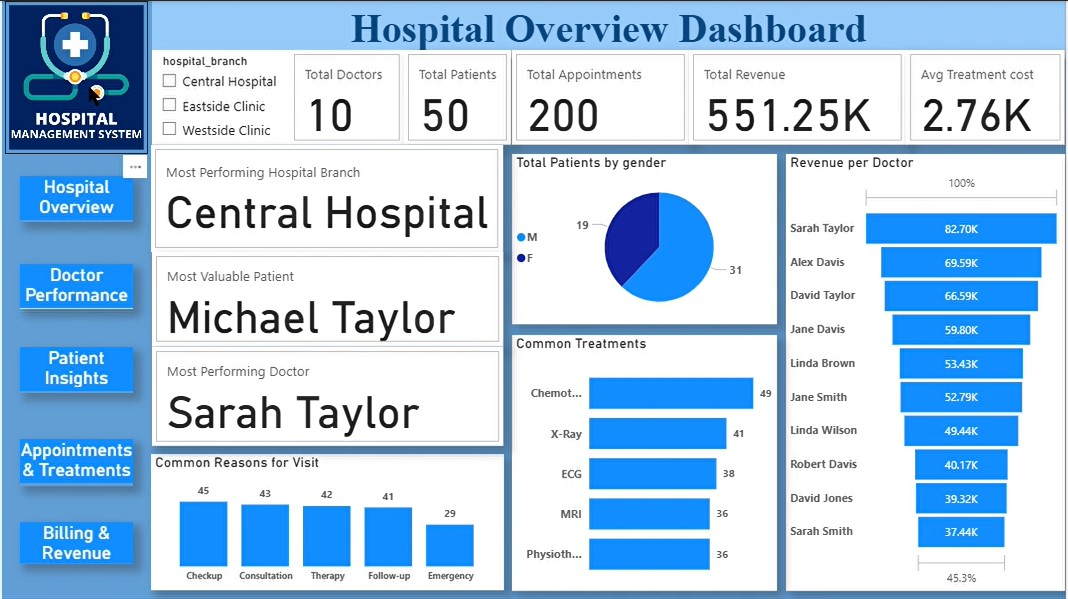

Layout of this report page (visuals, bound fields, positions):
{"tool":"powerbi","page":{"name":"Hospital Overview","canvas":[1280,720],"ordinal":1},"visuals":[{"type":"textbox","box":[180.3,0,1099.7,70.2],"z":0},{"type":"cardVisual","fields":{"Data":["doctors.Total Doctors"]},"box":[346.8,59.2,137.6,114.2],"z":1000},{"type":"cardVisual","fields":{"Data":["patients.Total Patients"]},"box":[484.5,59.2,129.4,114.2],"z":2000},{"type":"cardVisual","fields":{"Data":["appointments.Total Appointments"]},"box":[613.8,59.2,213.3,114.2],"z":3000},{"type":"cardVisual","fields":{"Data":["Sum(treatments.cost)"]},"box":[827.2,59.2,261.5,114.2],"z":4000},{"type":"cardVisual","fields":{"Data":["treatments.Avg Treatment cost"]},"box":[1088.7,59.2,191.3,114.2],"z":5000},{"type":"slicer","fields":{"Values":["doctors.hospital_branch"]},"box":[180.3,59.2,166.5,114.2],"z":6000},{"type":"pieChart","fields":{"Category":["patients.gender"],"Y":["patients.Total Patients"]},"box":[613.8,184.4,319.3,205.1],"z":7000},{"type":"funnel","title":"Revenue per Doctor","fields":{"Category":["26 doctors with appointments.doctor_name"],"Y":["Sum(treatments.cost)"]},"box":[944.2,184.4,335.8,525.8],"z":8000},{"type":"clusteredColumnChart","title":"Common Reasons for Visit","fields":{"Category":["appointments.reason_for_visit"],"Y":["appointments.Total Appointments"]},"box":[178.9,545.6,425.2,164.2],"z":9000},{"type":"barChart","title":"Common Treatments","fields":{"Category":["treatments.treatment_type"],"Y":["treatments.Total Appointment"]},"box":[613.8,401.9,319.3,308.3],"z":10000},{"type":"cardVisual","fields":{"Data":["appointments.Most Performing Hospital Branch"]},"box":[178.9,173.4,423.9,129.4],"z":11000},{"type":"cardVisual","fields":{"Data":["patients.Most Valuable Patient"]},"box":[180,302.6,423,113.6],"z":12000},{"type":"cardVisual","fields":{"Data":["doctors.Most Performing Doctor"]},"box":[180,416.2,423,119.2],"z":13000},{"type":"actionButton","title":"Hospital Overview","box":[22,210.6,136.3,55.1],"z":14000},{"type":"actionButton","title":"Doctor Performance","box":[22,316.6,136.3,53.7],"z":15000},{"type":"actionButton","title":"Appointments & Treatments","box":[22,527.1,136.3,56.4],"z":16000},{"type":"actionButton","title":"Billing & Revenue","box":[22,627.6,136.3,49.5],"z":17000},{"type":"actionButton","title":"Patient Insights","box":[22,417,136.3,55.1],"z":18000},{"type":"image","box":[4.1,0,172,184.4],"z":19000}]}

Visuals, with their boxes in screenshot pixels (x1, y1, x2, y2), scaled from the page's 1280x720 canvas onto the 1068x599 screenshot:
textbox: BBox(150, 0, 1067, 58)
cardVisual - doctors.Total Doctors: BBox(289, 49, 404, 144)
cardVisual - patients.Total Patients: BBox(404, 49, 512, 144)
cardVisual - appointments.Total Appointments: BBox(512, 49, 690, 144)
cardVisual - Sum(treatments.cost): BBox(690, 49, 908, 144)
cardVisual - treatments.Avg Treatment cost: BBox(908, 49, 1067, 144)
slicer - doctors.hospital_branch: BBox(150, 49, 289, 144)
pieChart - patients.gender x patients.Total Patients: BBox(512, 153, 779, 324)
"Revenue per Doctor" funnel: BBox(788, 153, 1067, 591)
"Common Reasons for Visit" clusteredColumnChart: BBox(149, 454, 504, 591)
"Common Treatments" barChart: BBox(512, 334, 779, 591)
cardVisual - appointments.Most Performing Hospital Branch: BBox(149, 144, 503, 252)
cardVisual - patients.Most Valuable Patient: BBox(150, 252, 503, 346)
cardVisual - doctors.Most Performing Doctor: BBox(150, 346, 503, 445)
"Hospital Overview" actionButton: BBox(18, 175, 132, 221)
"Doctor Performance" actionButton: BBox(18, 263, 132, 308)
"Appointments & Treatments" actionButton: BBox(18, 439, 132, 485)
"Billing & Revenue" actionButton: BBox(18, 522, 132, 563)
"Patient Insights" actionButton: BBox(18, 347, 132, 393)
image: BBox(3, 0, 147, 153)
